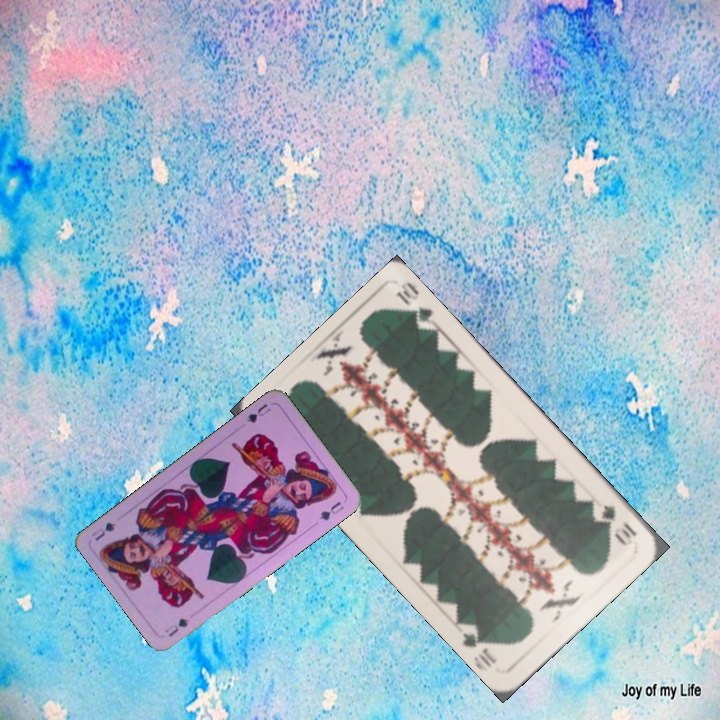G10: (596, 500, 640, 548)
GU: (242, 399, 273, 426), (161, 614, 192, 639)
